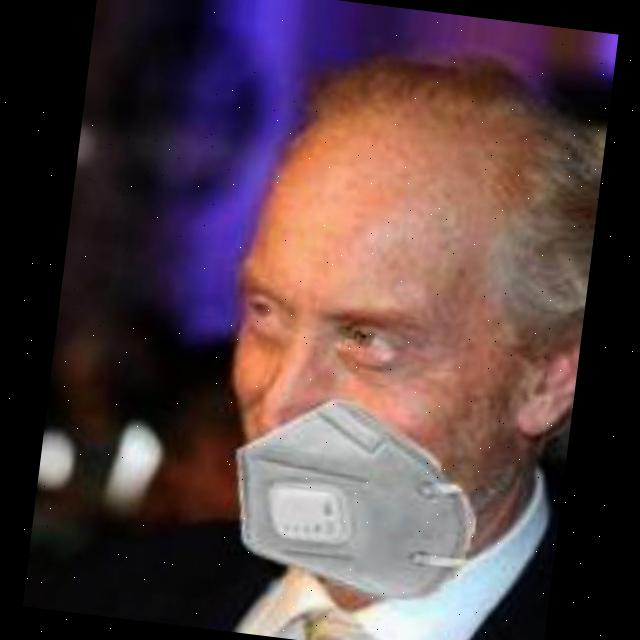suspicion: (177, 32, 608, 584)
